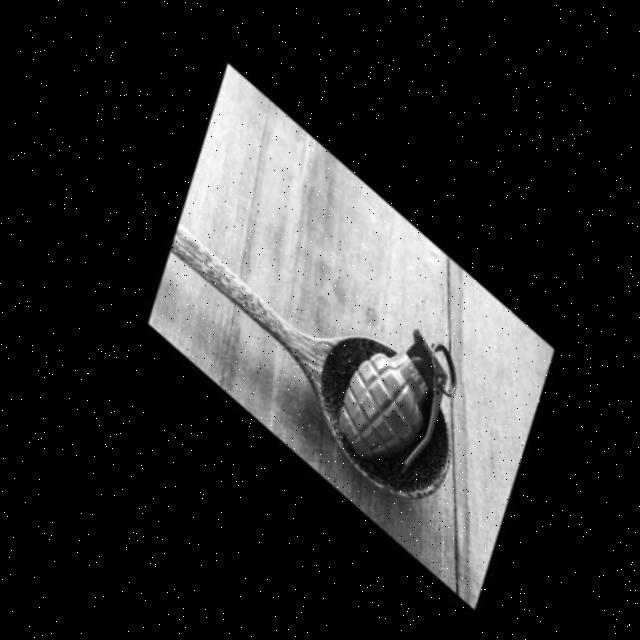grenade: (303, 301, 484, 480)
